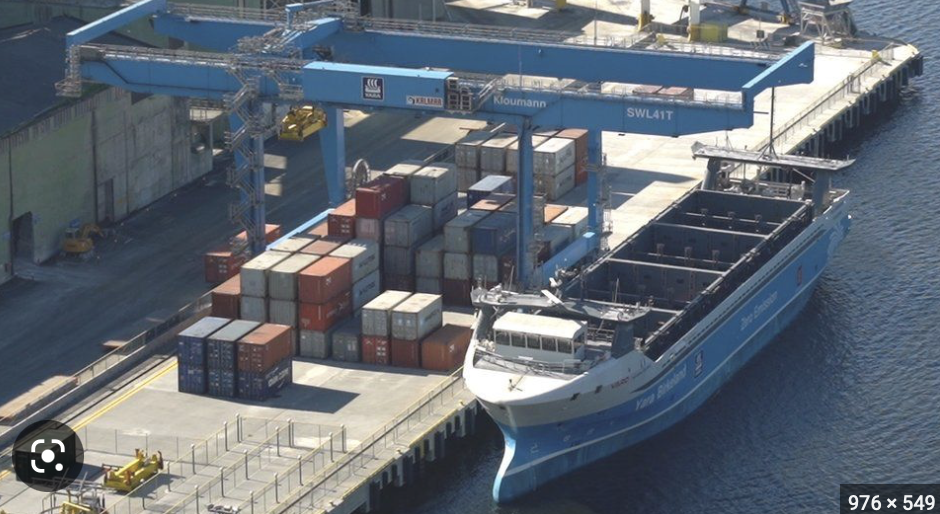ship: (439, 136, 881, 498)
